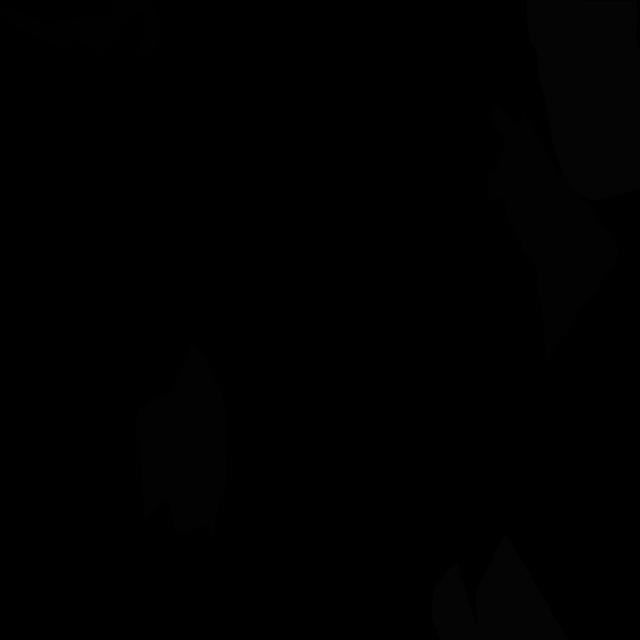cardboard: (486, 105, 620, 362), (136, 343, 227, 537)
rigid_plastic: (0, 0, 160, 60)
soft_plastic: (526, 0, 640, 201), (431, 533, 568, 640)
